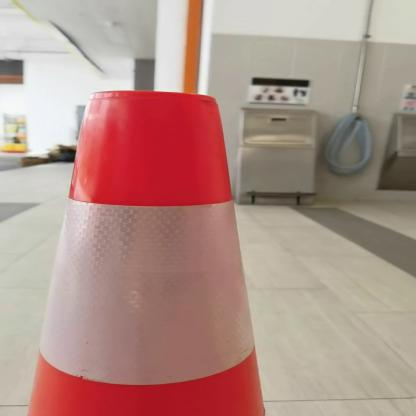cone: (23, 84, 292, 415)
